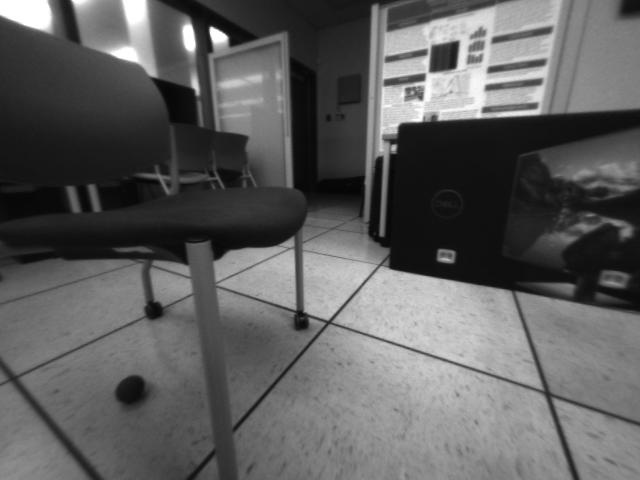dogtoy: (104, 370, 157, 409)
